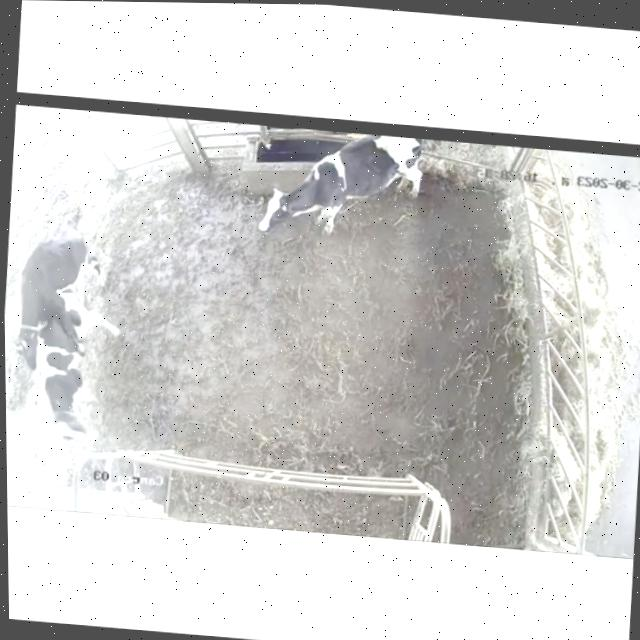ride: (3, 220, 104, 383)
stand: (246, 122, 441, 264), (30, 282, 129, 456)
